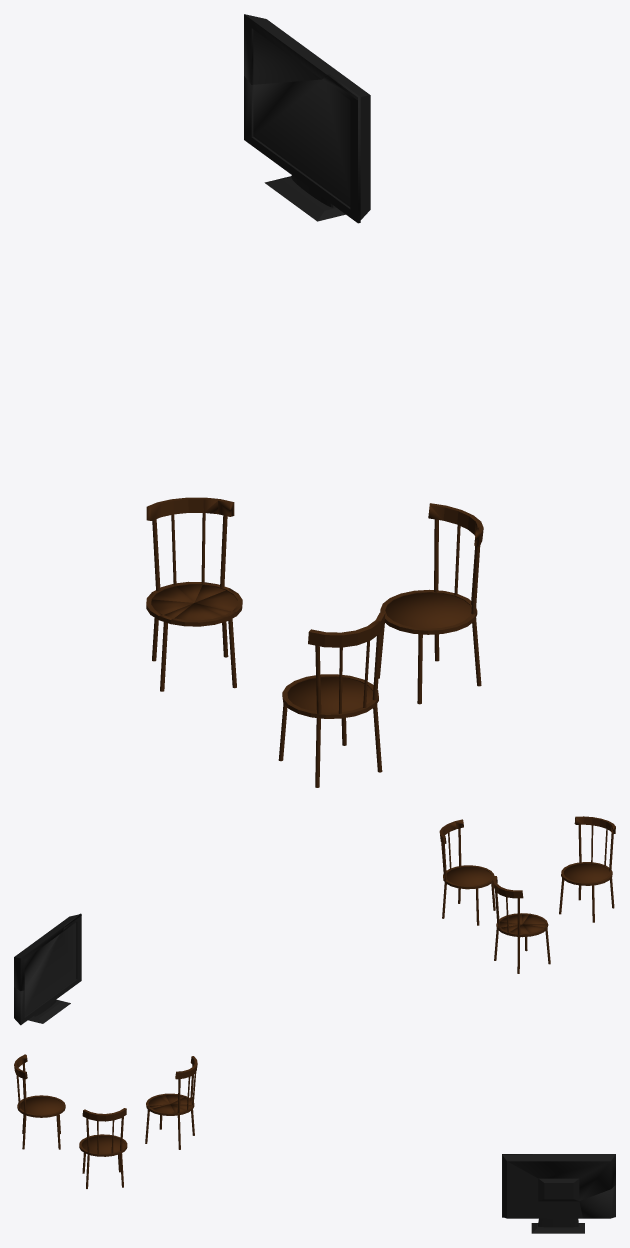
Rendered from FracturedAssets.fbx.
3 views of the same model, one above another, from view 1: azimuth 30°, elevation 25°; view 2: azimuth 150°, elevation 25°; view 3: azimuth 270°, elevation 25° (orthographic). The views are drawn at different scales.
Visible parts, largest first — view 1: pCube189, pCube189.001, pCylinder37, pCylinder30.002, pCube189.003, pCylinder37.003, pCylinder30.003, pCylinder37.002, pCylinder37.001, pCylinder37.006, pCylinder30.001, pCylinder30.004; view 2: pCube189, pCube189.001, pCylinder37, pCylinder30.002, pCylinder37.003, pCylinder37.002, pCylinder37.001, pCylinder30.003, pCube189.003, pCylinder30.001, pCylinder37.006; view 3: pCube189.003, pCube189.001, pCylinder37, pCube189, pCylinder30.002, pCylinder37.001, pCylinder37.002, pCylinder37.003, pCylinder30.003, pCylinder30.001, pCylinder37.004.
Part boxes in pixels (left/top/right/bottom): pCube189: left=244, top=74, right=360, bottom=223; pCube189.001: left=244, top=14, right=370, bottom=99; pCylinder37: left=278, top=674, right=378, bottom=761; pCylinder30.002: left=146, top=513, right=242, bottom=626; pCube189.003: left=264, top=95, right=370, bottom=221; pCylinder37.003: left=385, top=592, right=471, bottom=628; pCylinder30.003: left=146, top=497, right=234, bottom=591; pCylinder37.002: left=378, top=589, right=481, bottom=704; pCylinder37.001: left=428, top=503, right=483, bottom=614; pCylinder37.006: left=324, top=620, right=380, bottom=713; pCylinder30.001: left=152, top=582, right=229, bottom=661; pCylinder30.004: left=159, top=603, right=236, bottom=691; pCube189: left=14, top=913, right=81, bottom=1025; pCube189.001: left=14, top=914, right=81, bottom=990; pCylinder37: left=559, top=862, right=612, bottom=922; pCylinder30.002: left=496, top=892, right=547, bottom=936; pCylinder37.003: left=446, top=867, right=491, bottom=885; pCylinder37.002: left=442, top=865, right=495, bottom=925; pCylinder37.001: left=439, top=819, right=463, bottom=880; pCylinder30.003: left=493, top=876, right=523, bottom=934; pCube189.003: left=28, top=999, right=70, bottom=1023; pCylinder30.001: left=494, top=921, right=528, bottom=973; pCylinder37.006: left=584, top=816, right=612, bottom=866; pCube189.003: left=502, top=1155, right=584, bottom=1233; pCube189.001: left=503, top=1154, right=615, bottom=1200; pCylinder37: left=17, top=1095, right=65, bottom=1149; pCube189: left=502, top=1154, right=615, bottom=1218; pCylinder30.002: left=146, top=1071, right=196, bottom=1115; pCylinder37.001: left=82, top=1108, right=126, bottom=1154; pCylinder37.002: left=79, top=1134, right=127, bottom=1188; pCylinder37.003: left=81, top=1136, right=124, bottom=1153; pCylinder30.003: left=175, top=1056, right=197, bottom=1112; pCylinder30.001: left=170, top=1097, right=194, bottom=1149; pCylinder37.004: left=19, top=1070, right=27, bottom=1149.
Bounding box in the file's own units: 23.26 × 8.26 × 42.42.
